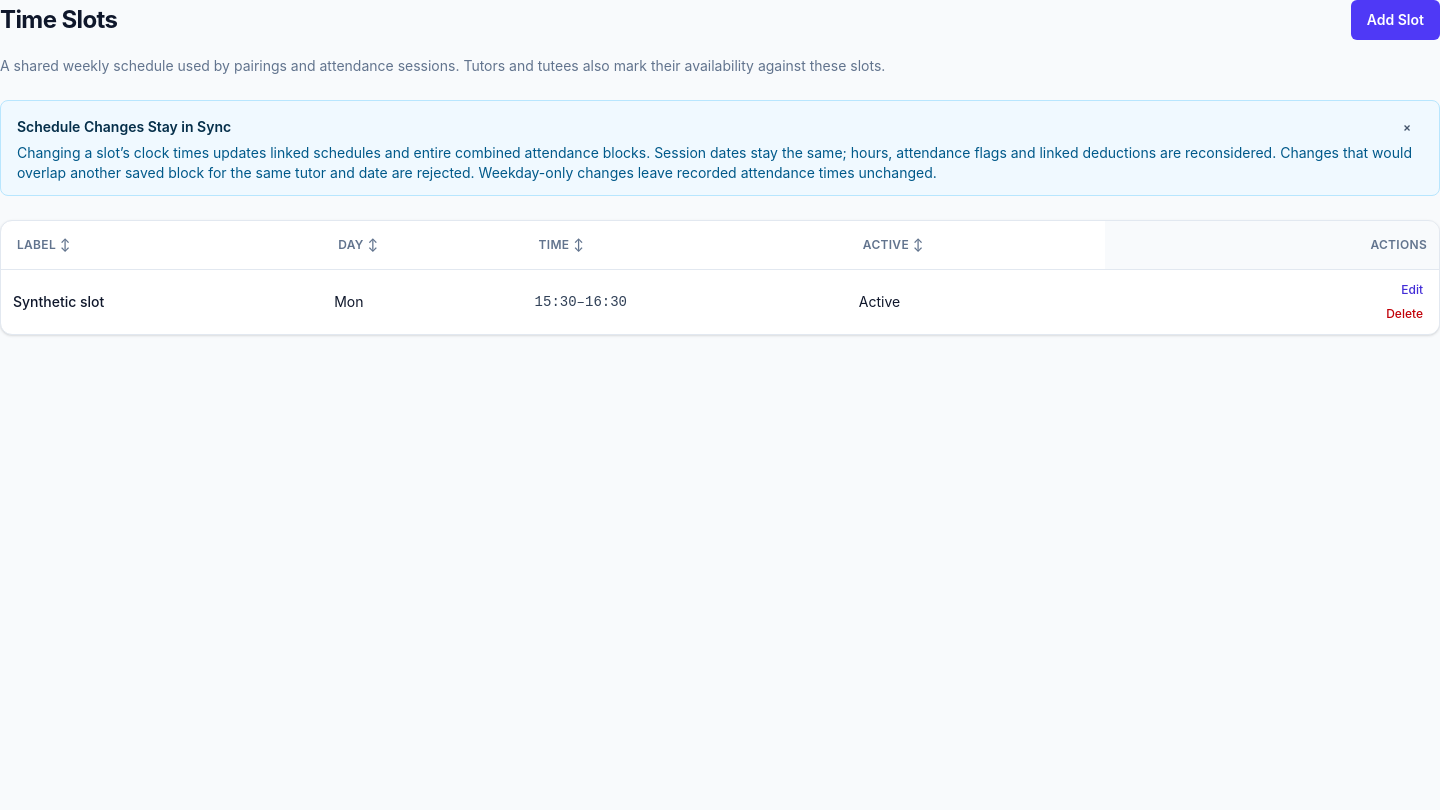
Test case: keeps authorized editing and propagation guidance after removing the redundant reader
Click the button "Edit": (1405, 290) [1383,278,1427,302]
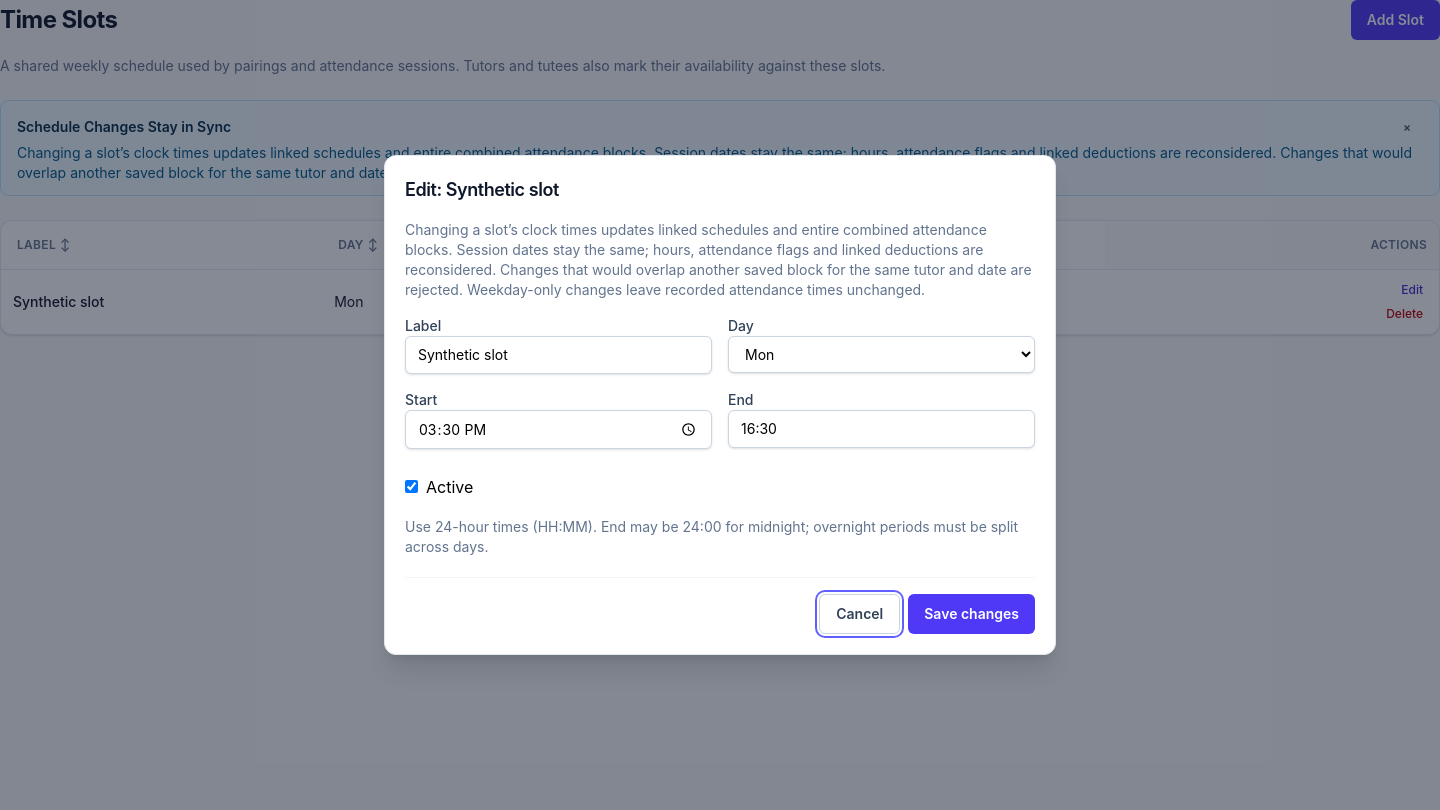
Expected: the text "Changing a slot’s clock times updates linked schedules and entire combined attendance blocks. Session dates stay the sam" below "Schedule Changes Stay in Sync" is shown, [17,144,1412,181]
Now the dialog is shown, box [384,155,1056,655]
